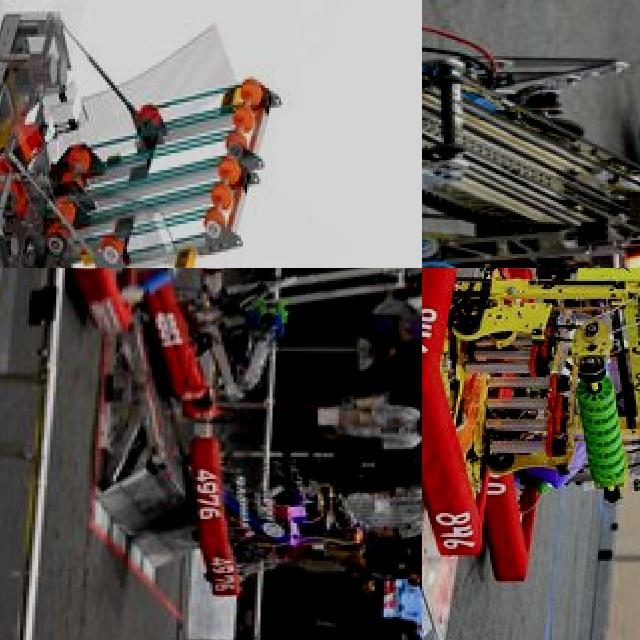FRC-Robots: (0, 0, 352, 268), (422, 268, 640, 579), (422, 0, 640, 268), (166, 451, 374, 592), (143, 275, 301, 417), (78, 268, 222, 353)
